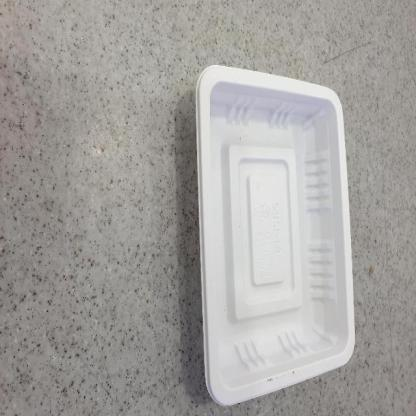Glass Cup: (194, 64, 356, 406), (196, 65, 356, 406)
